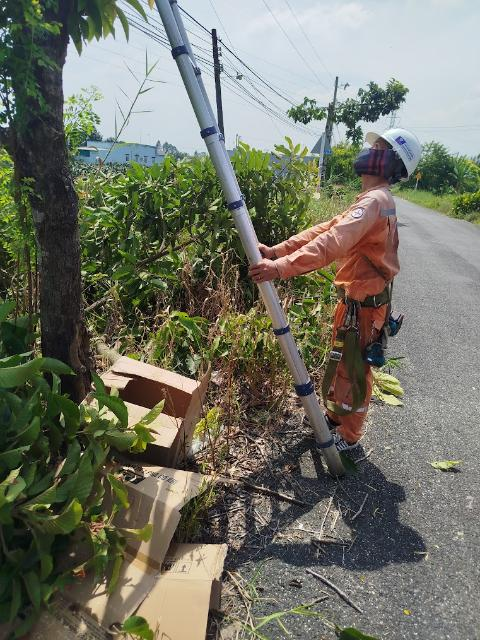harness: (335, 278, 393, 317)
helmet: (353, 116, 446, 187)
shoes: (311, 426, 357, 455), (294, 396, 336, 427)
